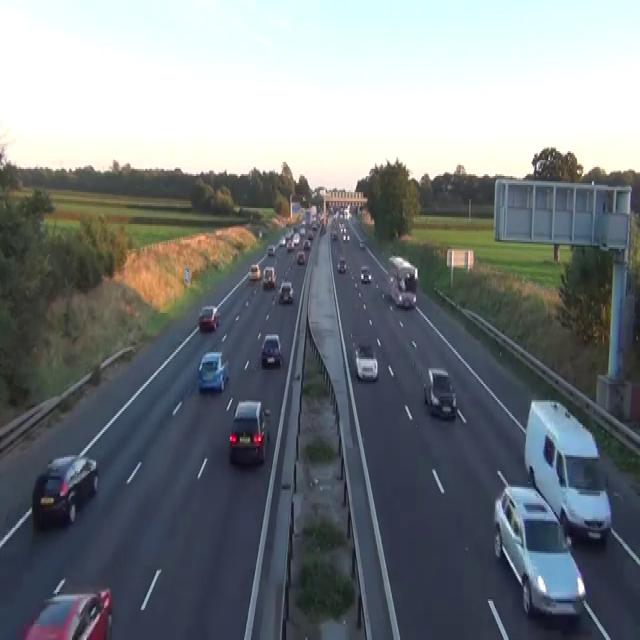Car: (493, 484, 586, 618), (21, 576, 113, 638), (32, 453, 98, 530), (229, 400, 270, 464), (423, 366, 457, 420), (198, 350, 229, 391), (354, 342, 378, 381), (388, 254, 418, 283), (260, 332, 282, 368), (198, 304, 220, 331), (396, 265, 417, 290), (262, 265, 276, 288), (388, 254, 411, 268), (278, 281, 293, 302), (360, 265, 371, 283), (249, 263, 260, 279), (337, 256, 346, 272), (296, 251, 305, 265), (267, 244, 275, 256), (286, 240, 294, 251), (302, 238, 310, 249), (285, 229, 293, 240), (330, 229, 337, 240), (293, 233, 299, 245), (342, 233, 350, 242), (359, 238, 365, 249), (320, 224, 326, 235), (341, 224, 347, 235), (311, 219, 317, 229), (279, 237, 285, 246), (299, 226, 305, 234), (307, 230, 313, 238), (258, 230, 262, 238), (292, 226, 296, 233), (348, 212, 352, 218)
Truck: (524, 398, 612, 542)
